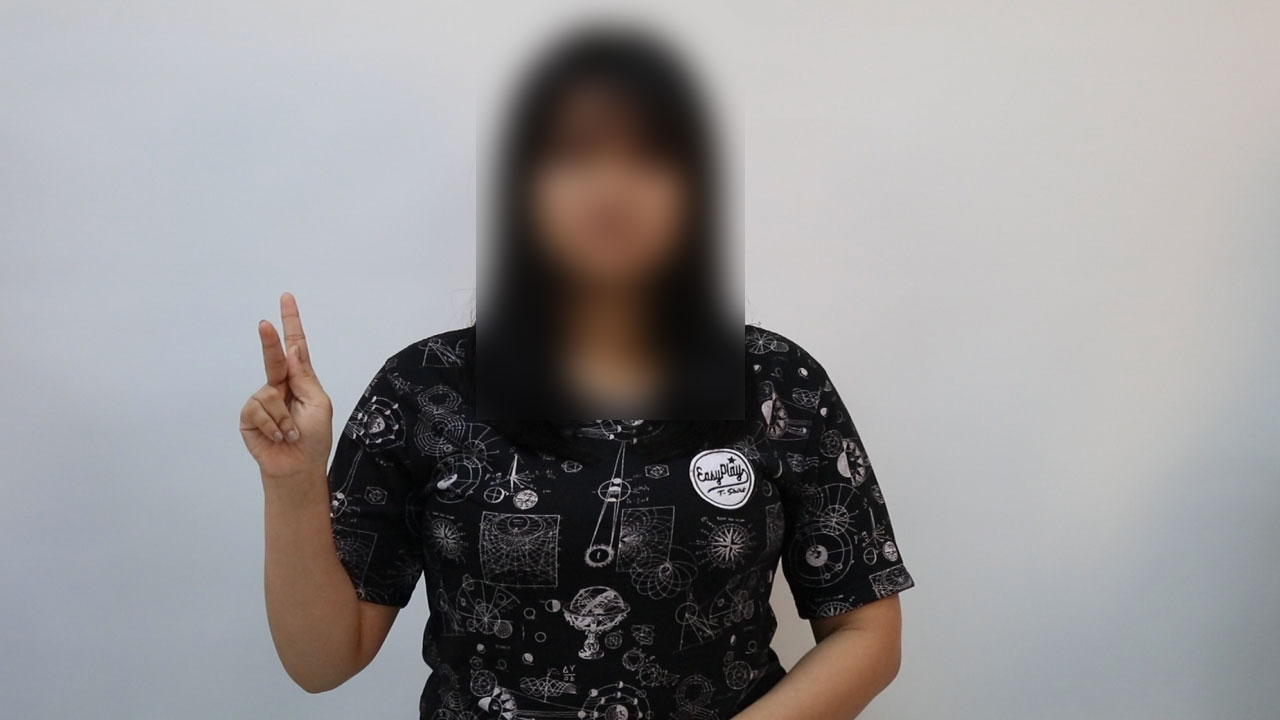ko: (187, 286, 388, 496)
